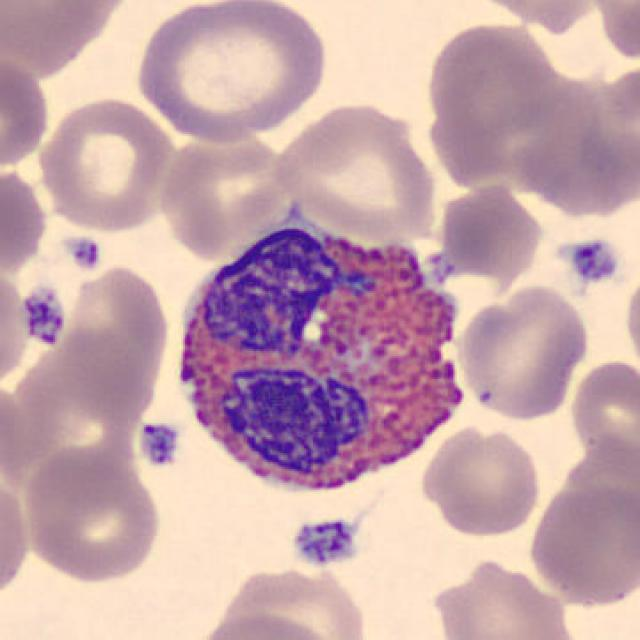Eosinophil: (162, 196, 485, 511)
Platelets: (288, 515, 363, 569), (562, 235, 624, 288), (18, 284, 68, 347), (135, 420, 181, 470), (62, 233, 105, 273)
RBC: (130, 0, 334, 145), (270, 98, 441, 242), (18, 444, 165, 586), (34, 93, 178, 234), (455, 280, 594, 423), (158, 125, 291, 260), (422, 19, 558, 143), (7, 351, 134, 482), (418, 422, 544, 540), (524, 481, 638, 610), (428, 555, 578, 640), (188, 573, 372, 640), (438, 181, 541, 285), (2, 0, 133, 71), (566, 356, 638, 471), (0, 49, 53, 172), (0, 162, 50, 282), (185, 606, 354, 640), (462, 0, 604, 30), (0, 472, 32, 603), (0, 265, 32, 393), (588, 0, 638, 65), (620, 263, 640, 379)
